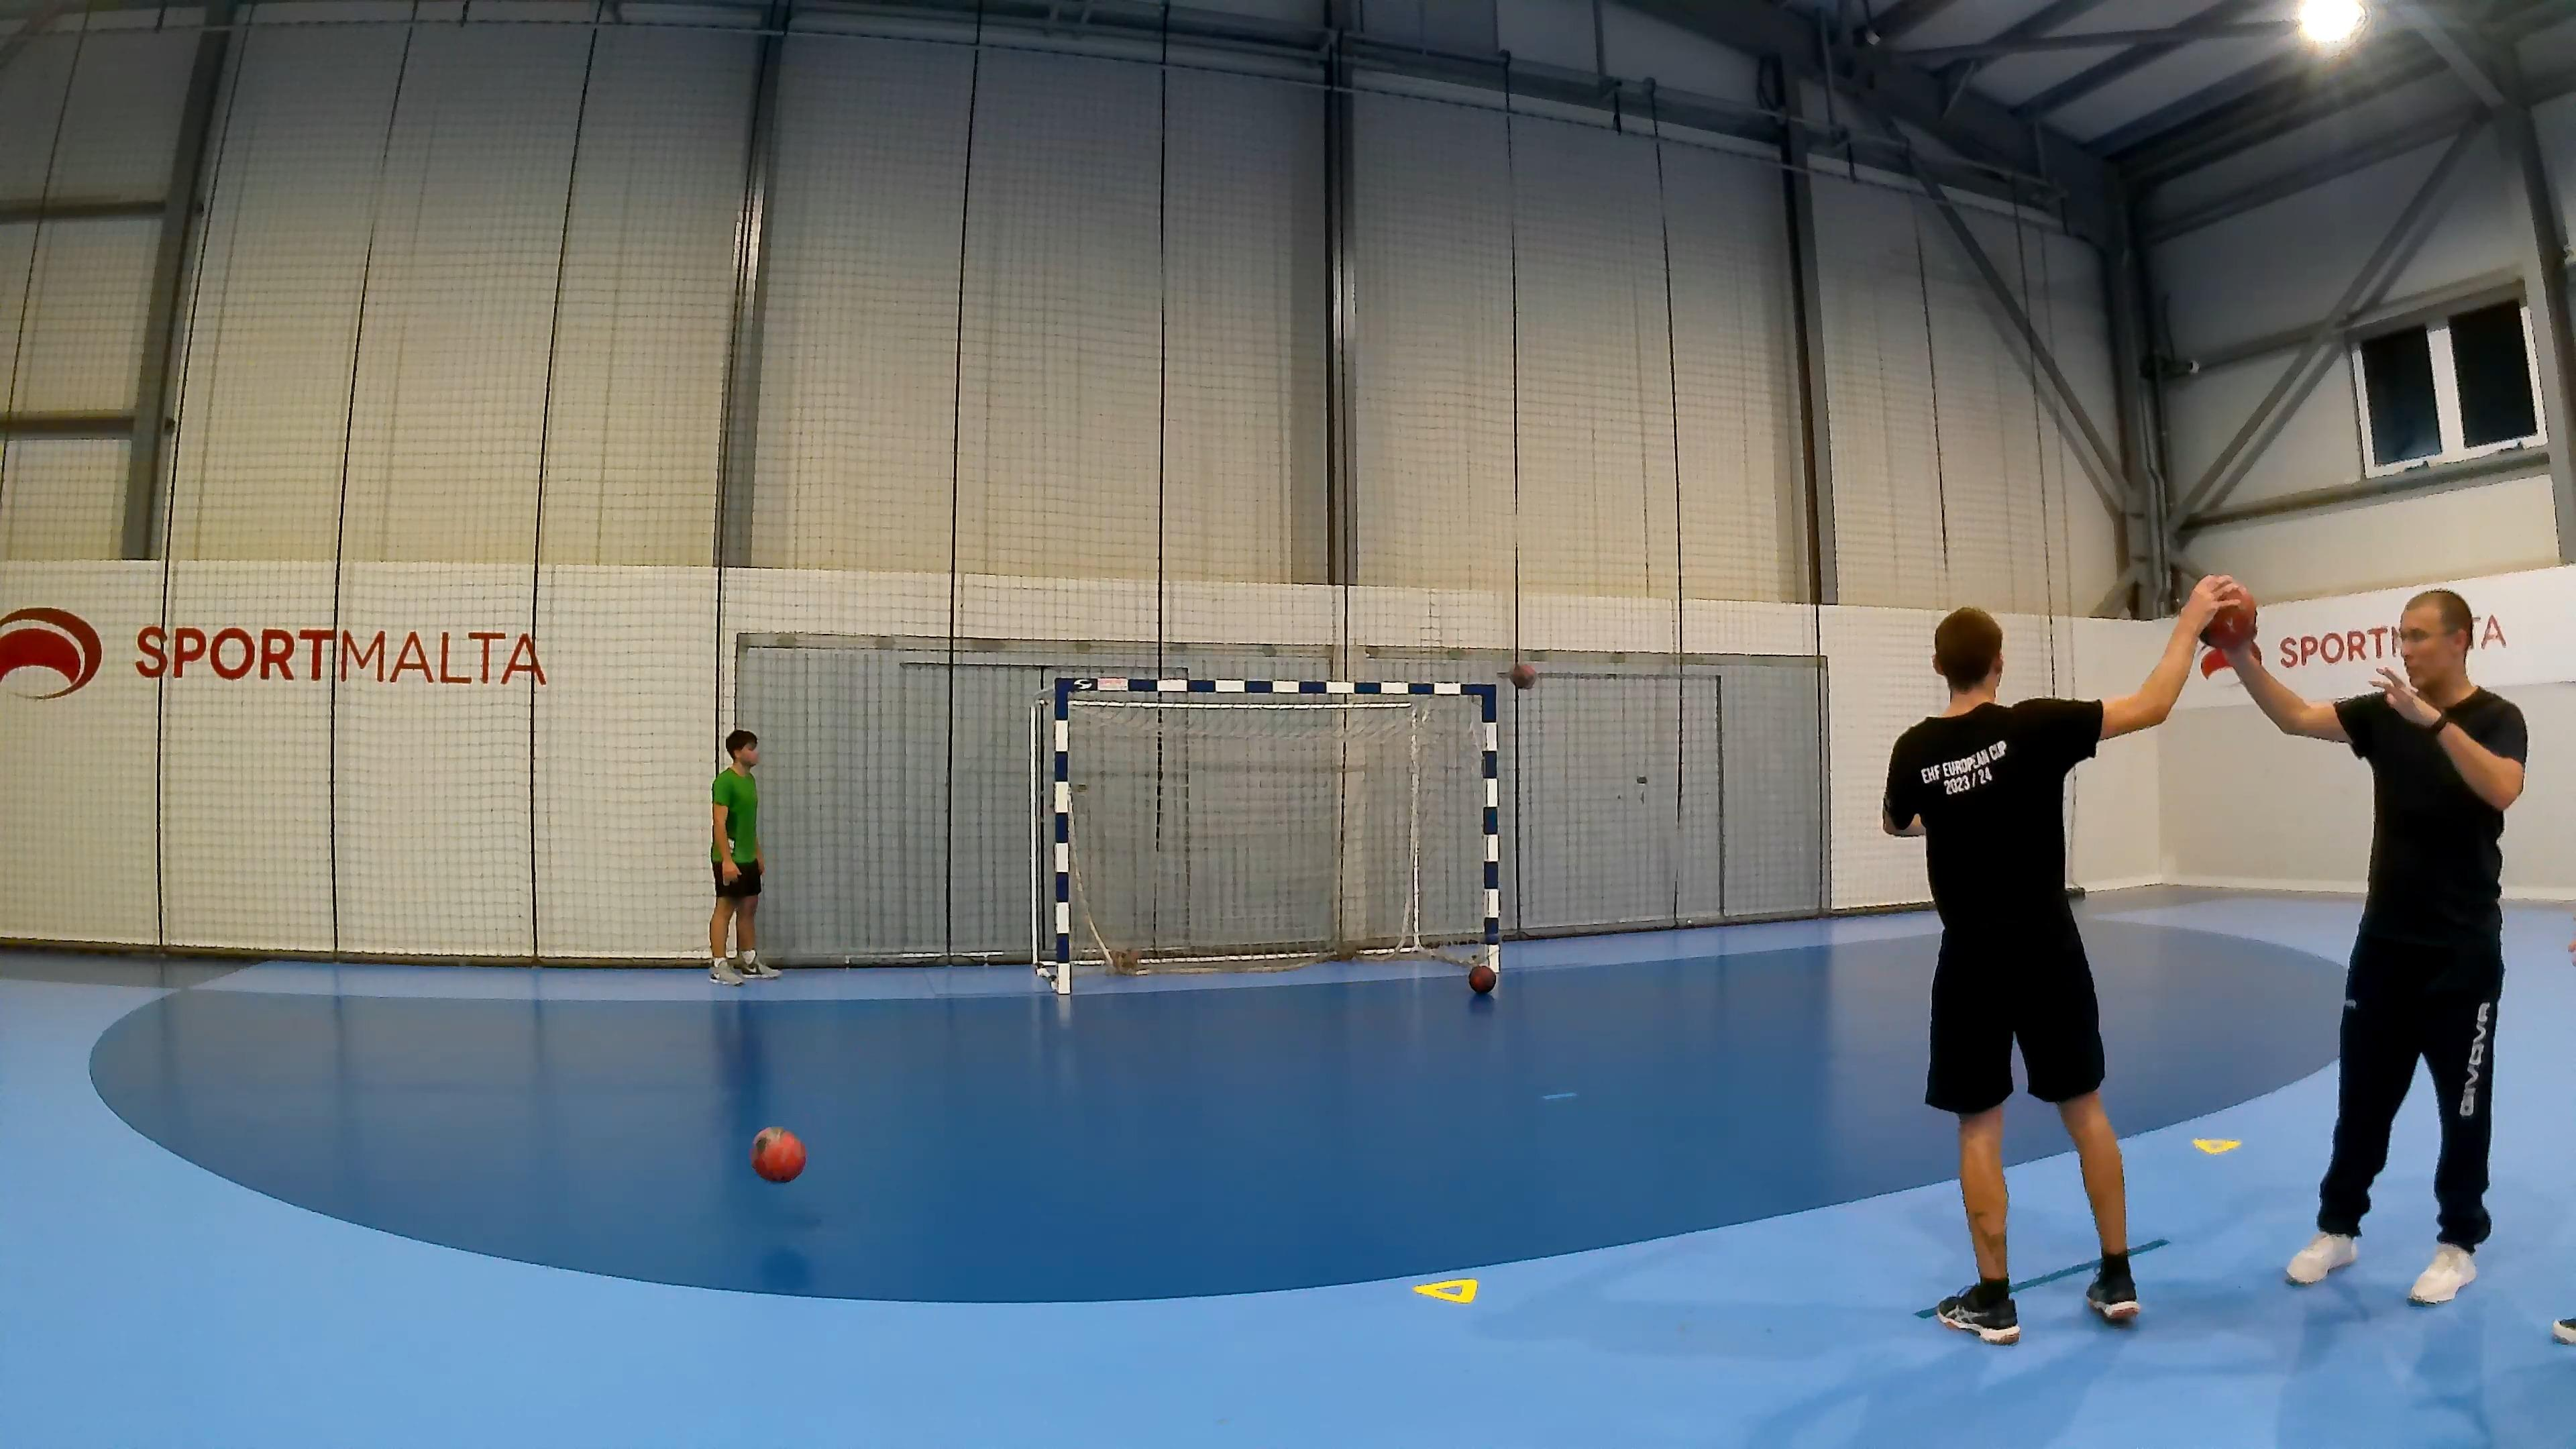handball: (2183, 579, 2273, 660), (750, 1123, 805, 1182), (1507, 660, 1541, 702), (1467, 962, 1495, 993)
